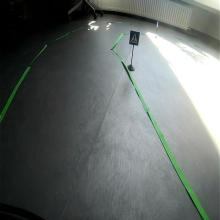crosswalk: (129, 30, 140, 46)
